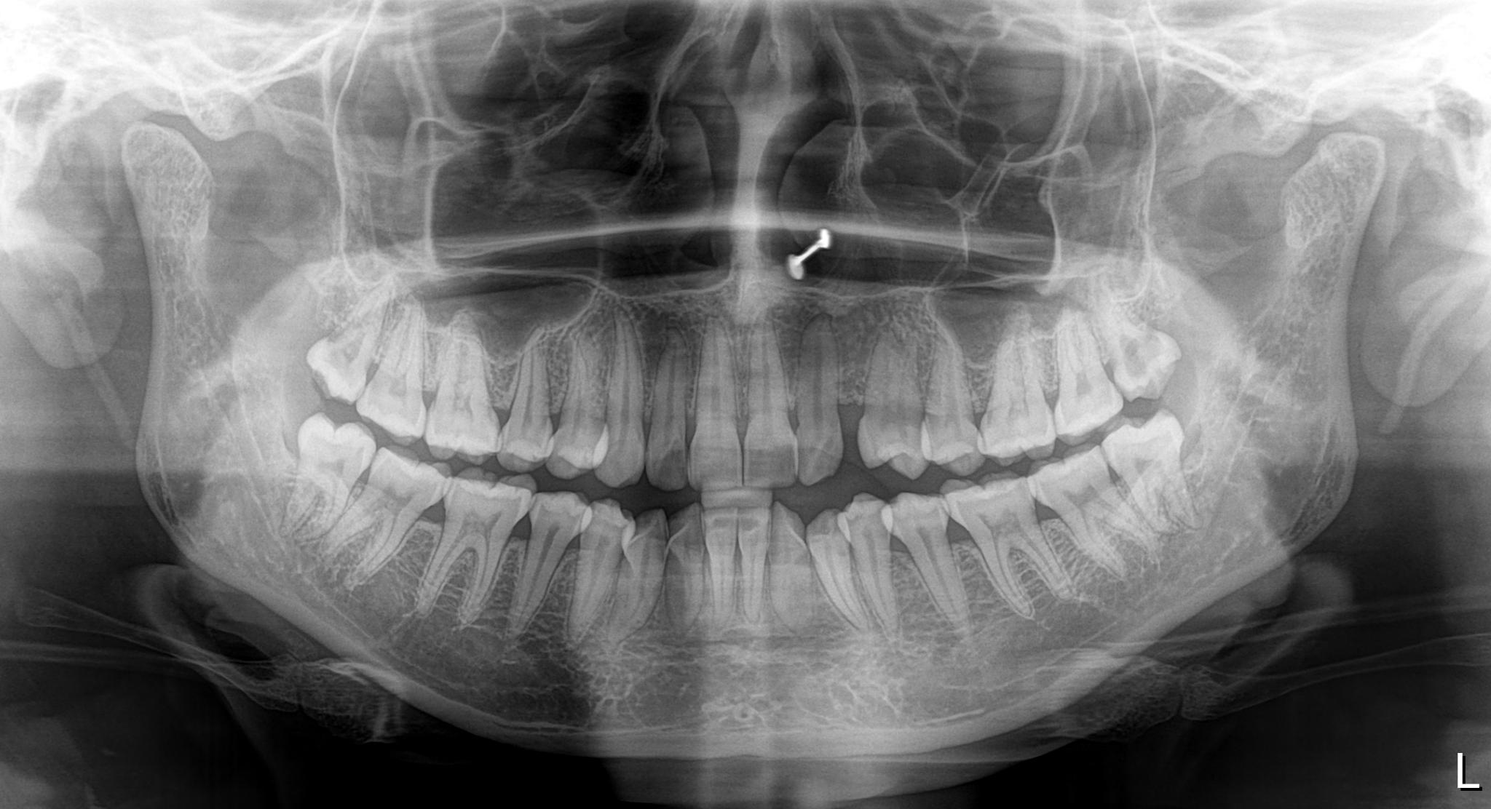Dental Caries: (630, 513, 714, 619)
Impacted Third Molar: (1103, 431, 1219, 517), (295, 418, 365, 497)
Missing Tooth: (826, 329, 866, 460)
